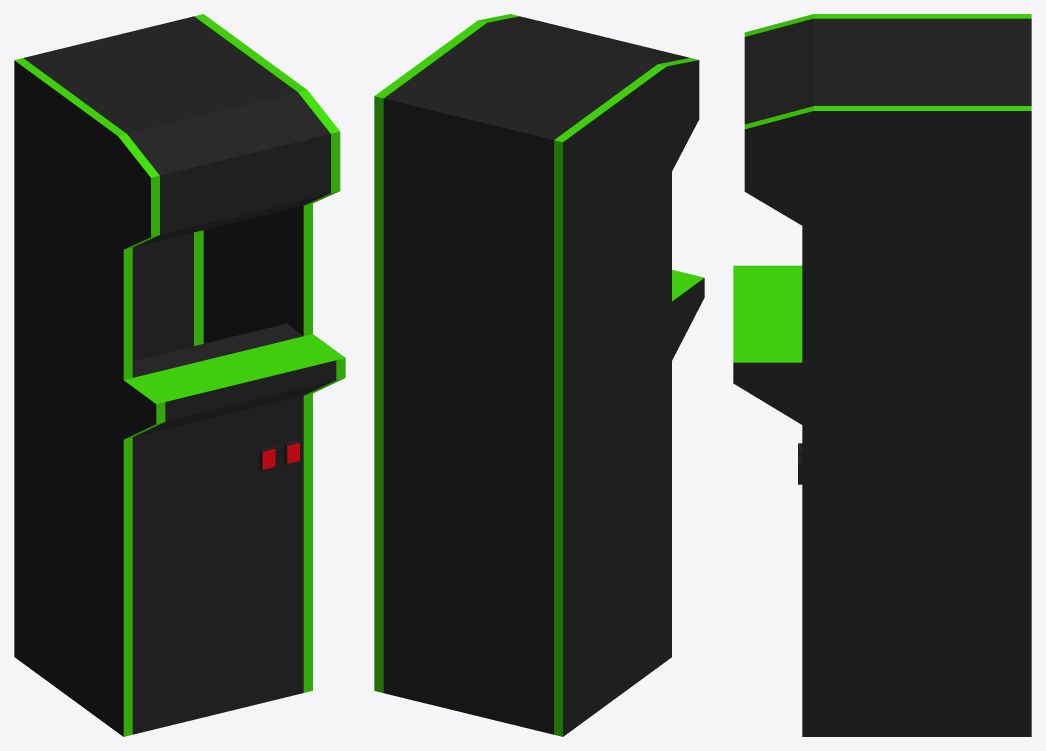
The model's file is Arcade2.obj.
3 views of the same model, side by side, from view 1: azimuth 30°, elevation 25°; view 2: azimuth 150°, elevation 25°; view 3: azimuth 270°, elevation 25° (orthographic). The views are drawn at different scales.
Parts seen in each view (by area): view 1: Cube_Cube.001; view 2: Cube_Cube.001; view 3: Cube_Cube.001.
Part boxes in pixels (x1,y1,x2,y2): Cube_Cube.001: (14,14,345,736); Cube_Cube.001: (374,14,704,736); Cube_Cube.001: (733,14,1031,736).
Bounding box in the file's own units: 1.54 × 4.65 × 2.01.
